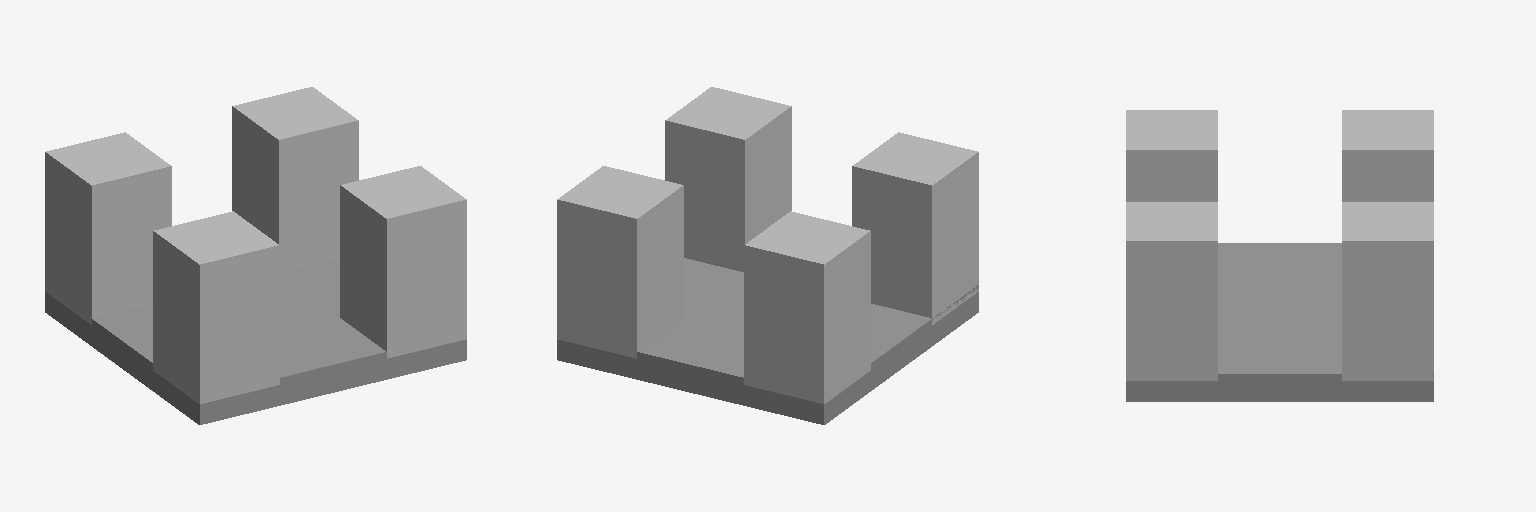
The model's file is hallway-thin_intersection_1.obj.
3 views of the same model, side by side, from view 1: azimuth 30°, elevation 25°; view 2: azimuth 150°, elevation 25°; view 3: azimuth 270°, elevation 25° (orthographic).
Parts seen in each view (by area): view 1: Cube.003_Cube.011, Cube.004_Cube.012, Cube.002_Cube.010, Cube, Cube.001_Cube.009; view 2: Cube.002_Cube.010, Cube.001_Cube.009, Cube.003_Cube.011, Cube, Cube.004_Cube.012; view 3: Cube, Cube.004_Cube.012, Cube.001_Cube.009, Cube.003_Cube.011, Cube.002_Cube.010.
Part boxes in pixels (x1,y1,x2,y2): Cube.003_Cube.011: (153, 211, 279, 403); Cube.004_Cube.012: (340, 166, 466, 358); Cube.002_Cube.010: (45, 132, 171, 324); Cube: (45, 258, 466, 424); Cube.001_Cube.009: (232, 87, 358, 271); Cube.002_Cube.010: (744, 211, 870, 403); Cube.001_Cube.009: (557, 166, 683, 358); Cube.003_Cube.011: (852, 132, 978, 324); Cube: (557, 258, 978, 424); Cube.004_Cube.012: (665, 87, 791, 271); Cube: (1126, 243, 1433, 401); Cube.004_Cube.012: (1126, 202, 1217, 380); Cube.001_Cube.009: (1342, 202, 1433, 380); Cube.003_Cube.011: (1126, 110, 1217, 201); Cube.002_Cube.010: (1342, 110, 1433, 201).
Size of the model in its own units: 10 by 5.75 by 10.